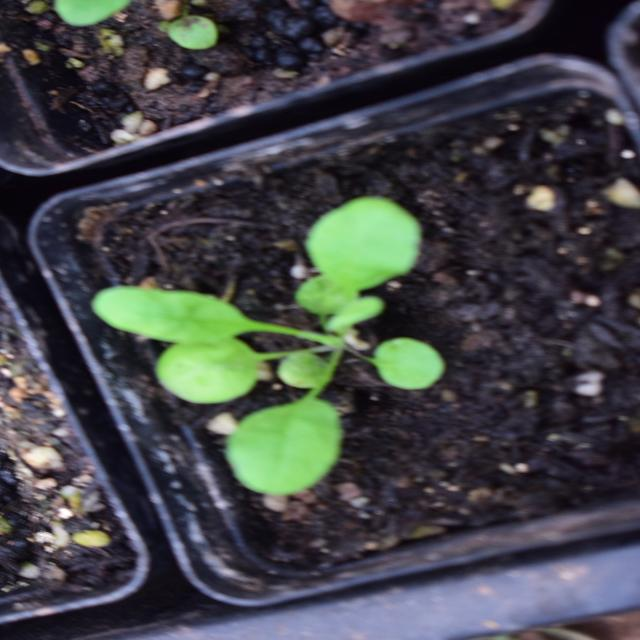Shepherd_Purse: (146, 90, 447, 436)
